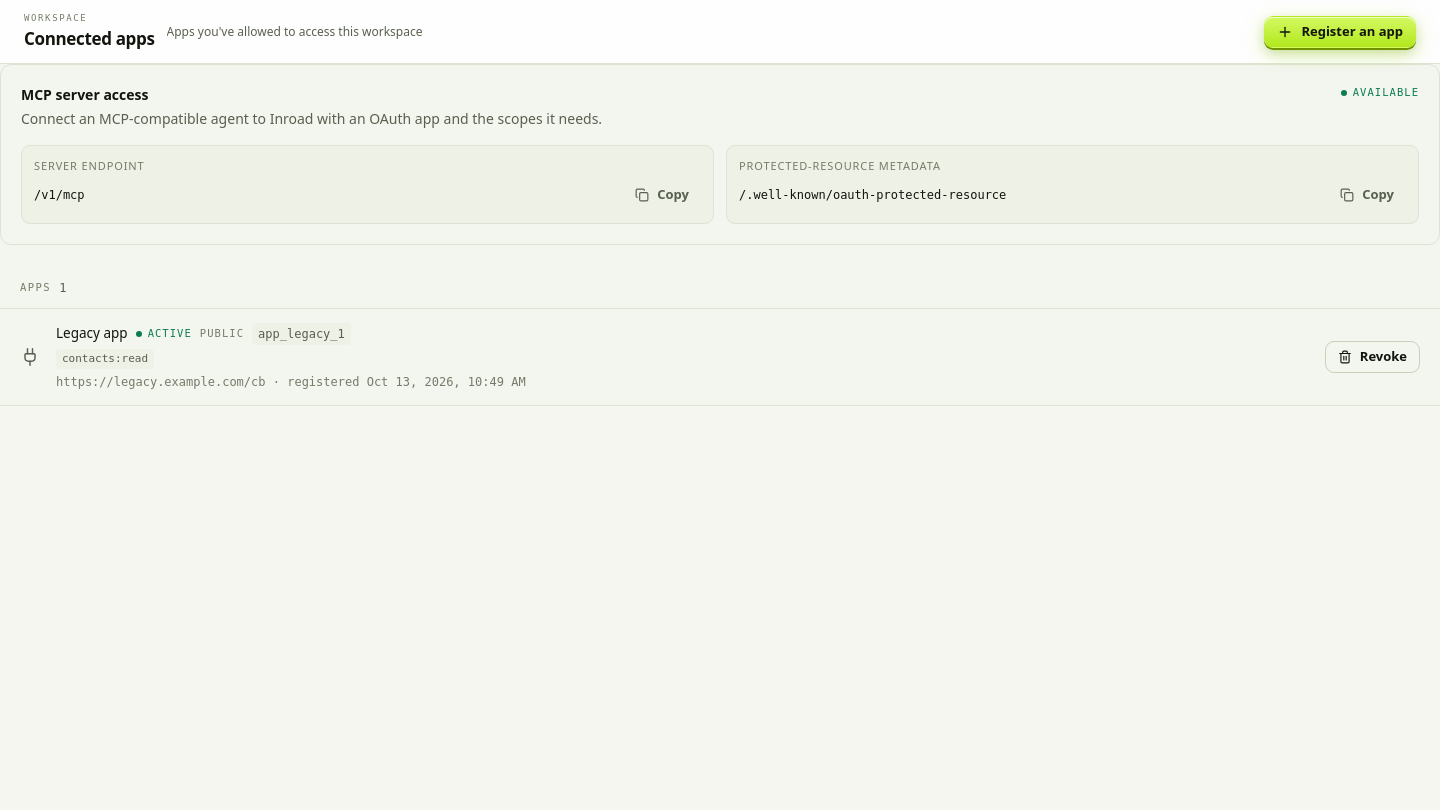
Test: revoking an app confirms and surfaces the outcome
Click the button with aria-label "revoke app legacy app". click: (1372,357)
box: x1=1325 y1=341 x2=1420 y2=373
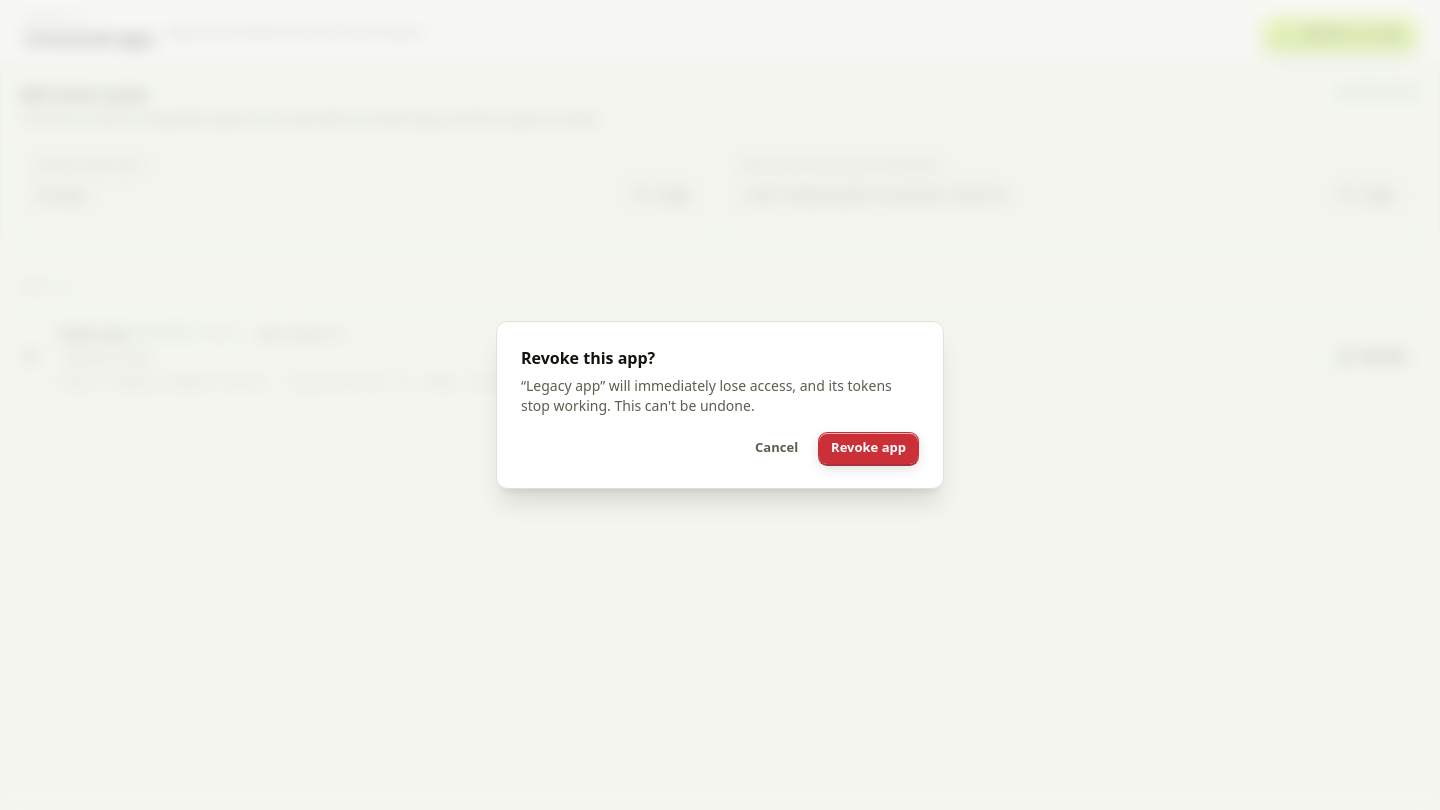
Click the button "Revoke app". click: (869,448)
box: x1=818 y1=432 x2=919 y2=464
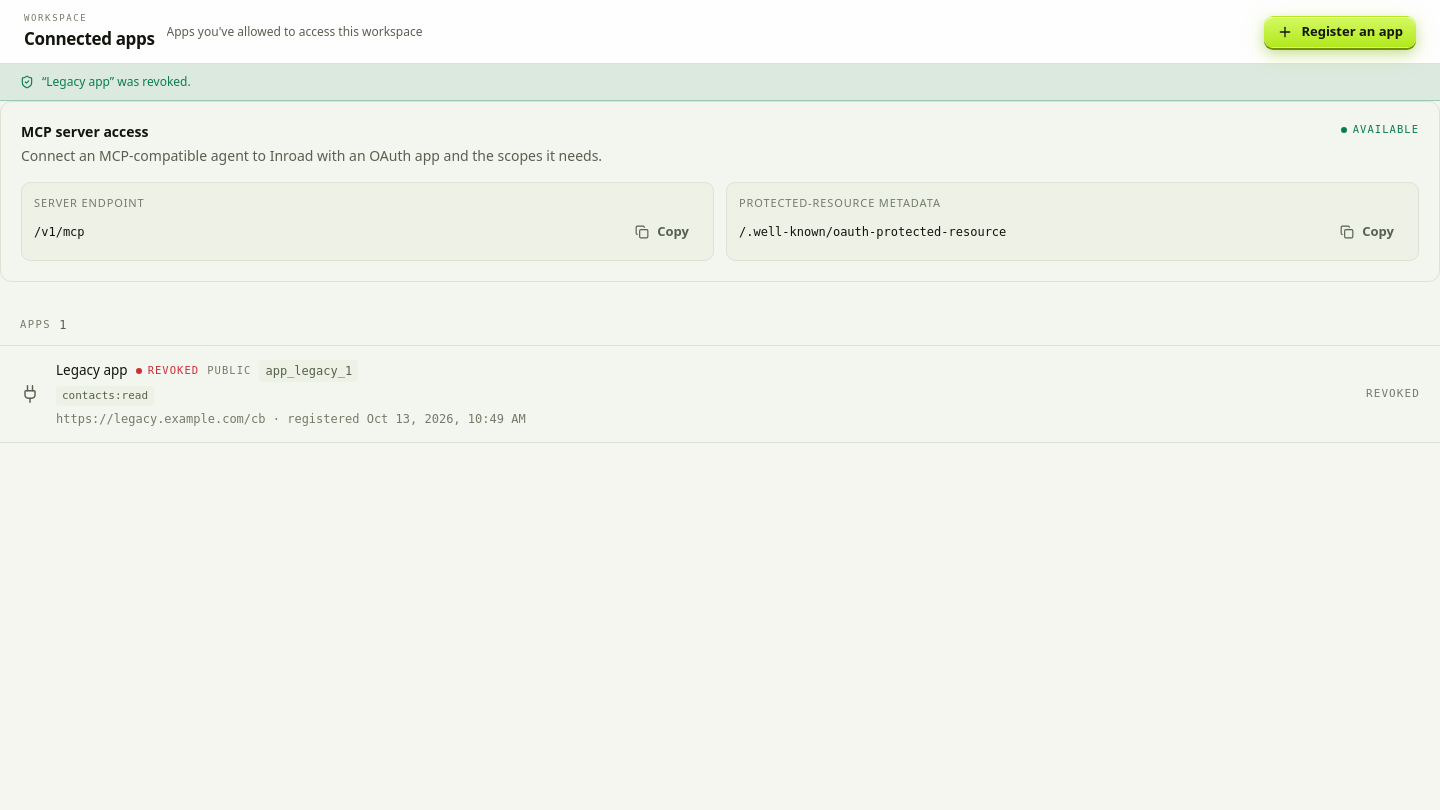
Expected: the message shows "“Legacy app” was revoked", x1=42 y1=73 x2=191 y2=90
